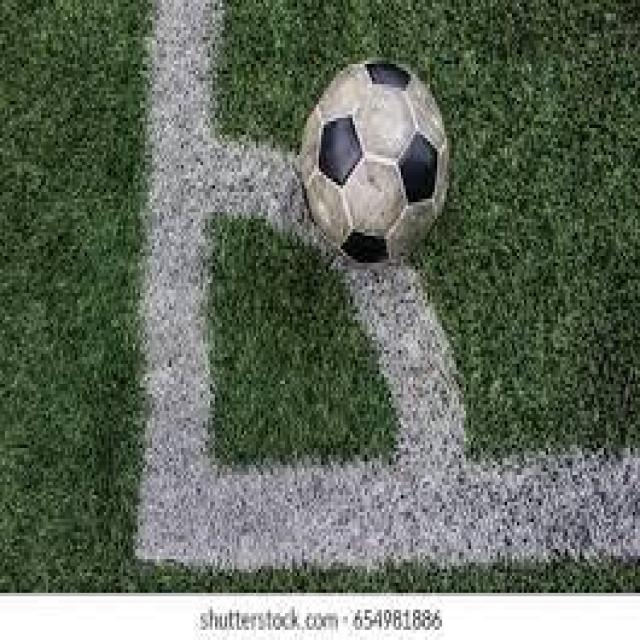Soccer Ball: (302, 64, 447, 263)
